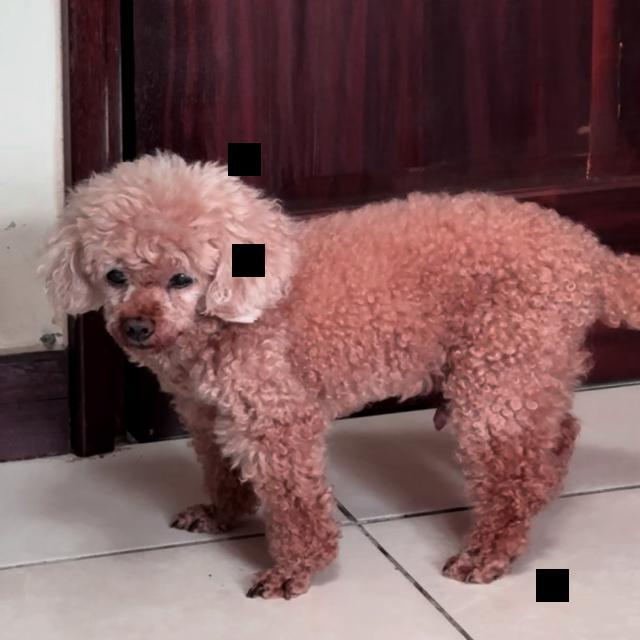adult_dog: (37, 145, 640, 604)
